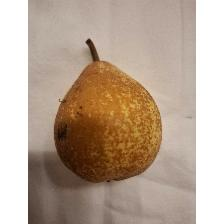Birne: (52, 36, 164, 184)
